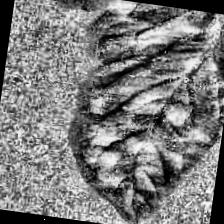leaf mold: (55, 0, 224, 224)
